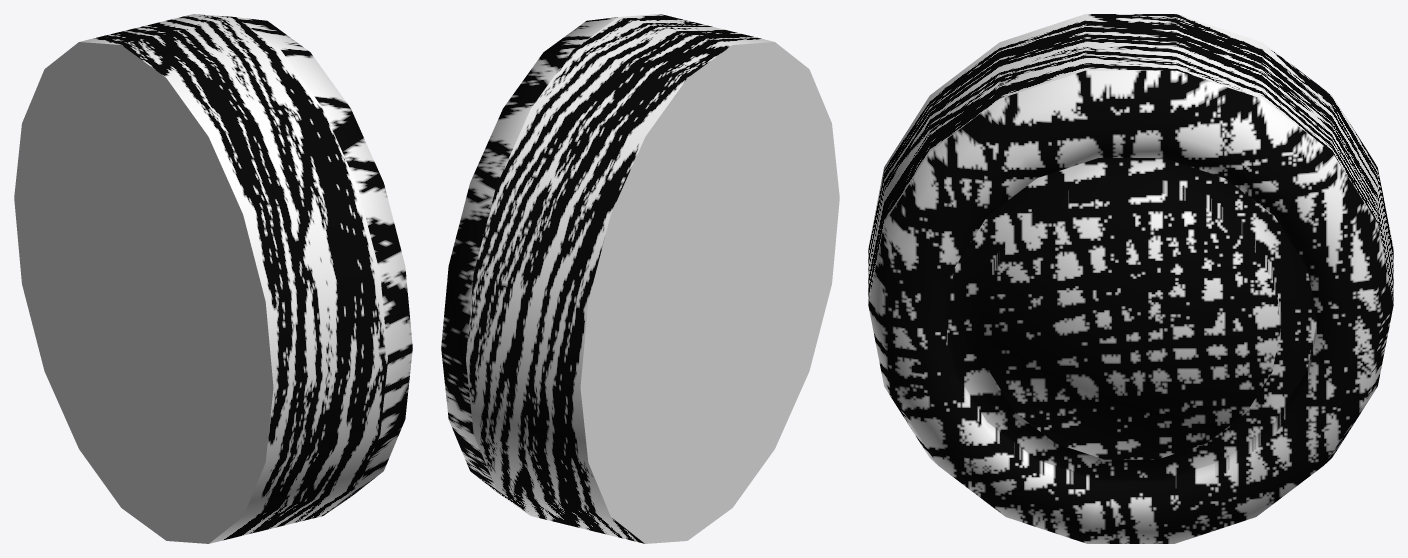
The model's file is car-small-wheel-mesh.FBX.
3 renders of one model, left to right at view 1: azimuth 30°, elevation 25°; view 2: azimuth 150°, elevation 25°; view 3: azimuth 270°, elevation 25°, orthographic.
Parts seen in each view (by area): view 1: wheel; view 2: wheel; view 3: wheel.
Boxes of the visible parts, <box> form: wheel: <box>14,14,412,543</box>; wheel: <box>441,14,839,543</box>; wheel: <box>868,14,1393,543</box>.
Bounding box in the file's own units: 0.1702 × 0.4829 × 0.4903.
